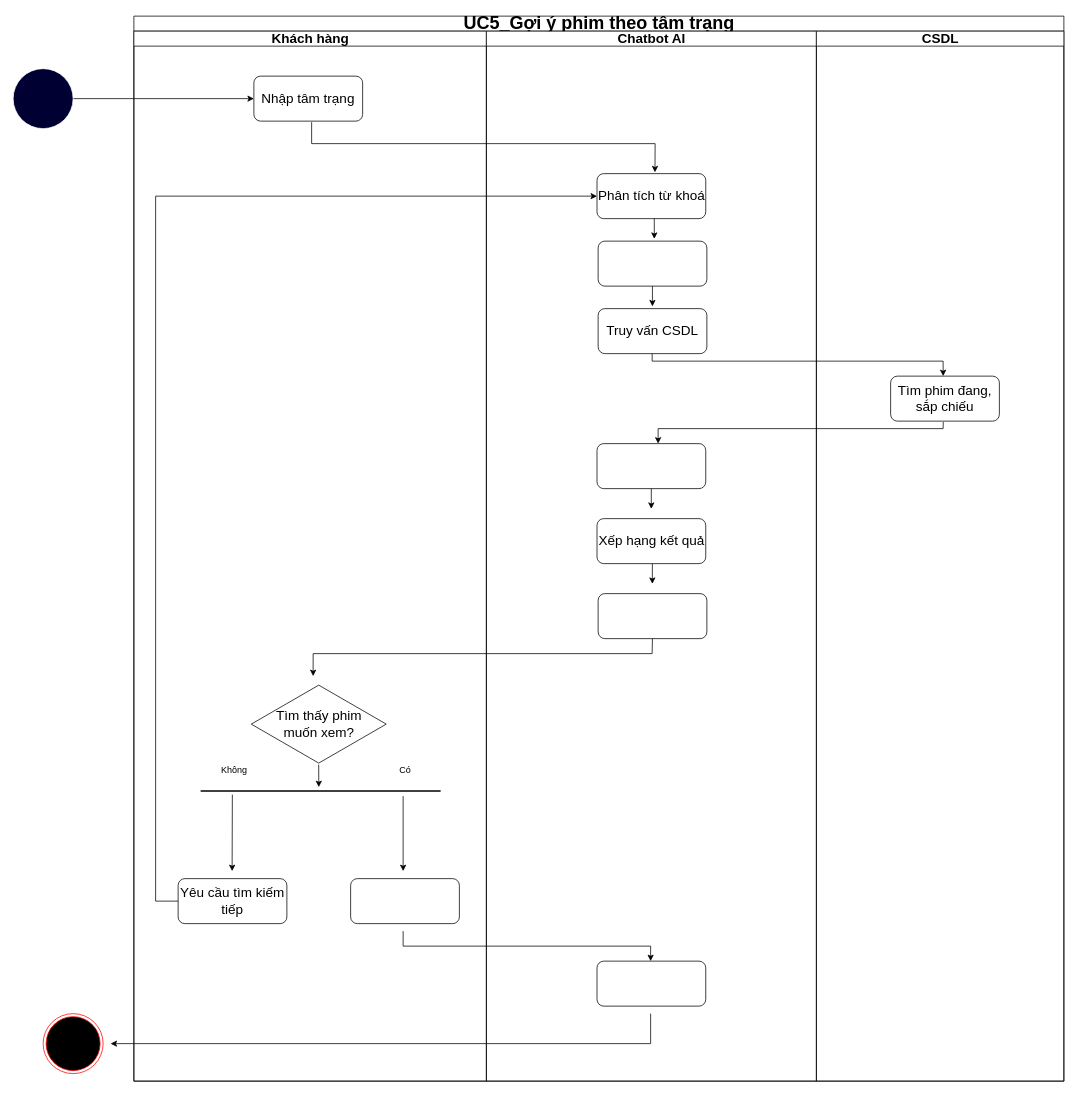
Image size: 1077x1094. Some labels were removed from this diagram. Here are the shapes that lost their labels. From the top down, the centre of each, then its label:
the point at 652,263: Xác định thể loại
the point at 651,466: Lọc theo độ tuổi
the point at 652,616: Tạo danh sách đề xuất
the point at 404,901: Người dùng chọn phim
the point at 651,983: Hiển thị thông tin phim
